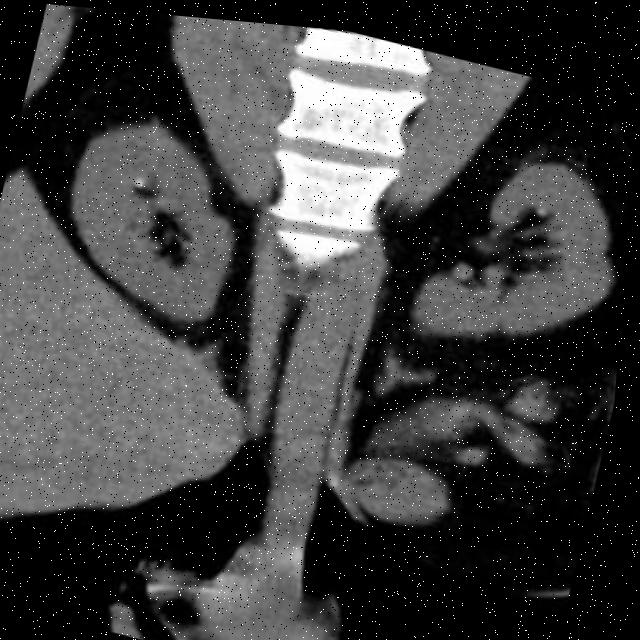Tas_Var: (130, 169, 155, 192), (535, 194, 550, 211)
